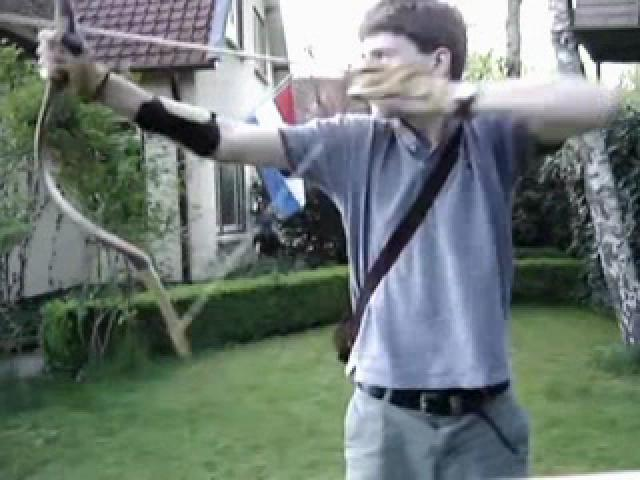P: (39, 8, 618, 474)
